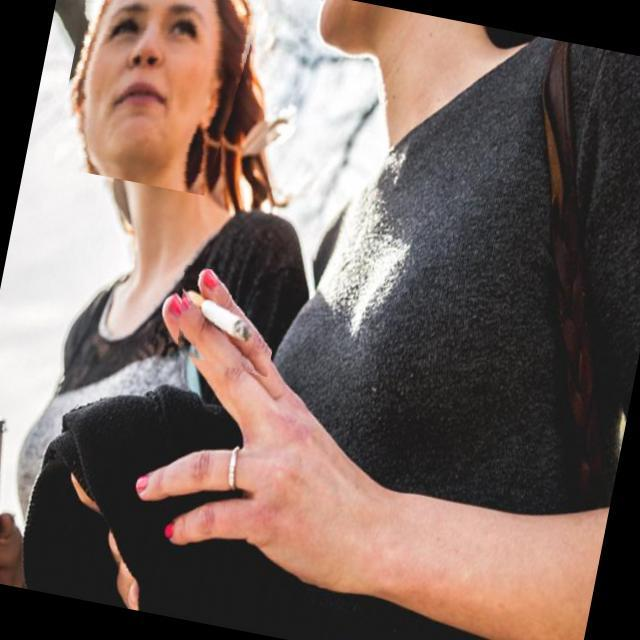cigarette: (166, 264, 285, 378)
